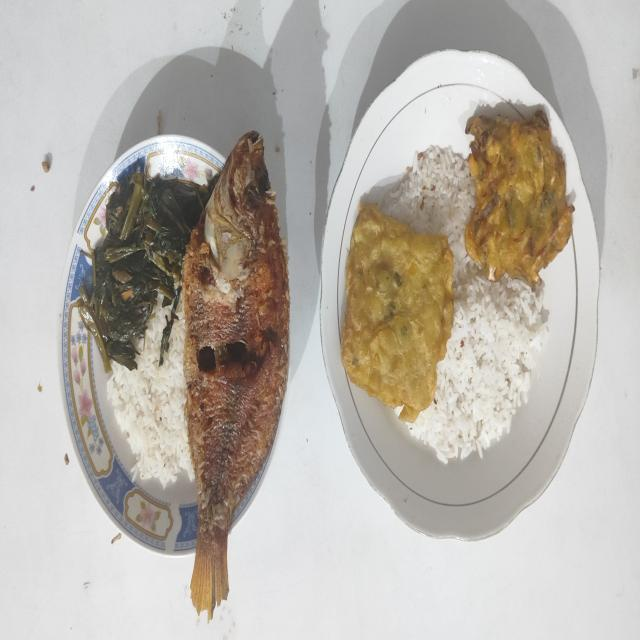ikan_mujair: (182, 132, 290, 618)
nasi_putih: (380, 146, 548, 462), (106, 294, 195, 488)
tumis_kangkung: (79, 168, 219, 372)
